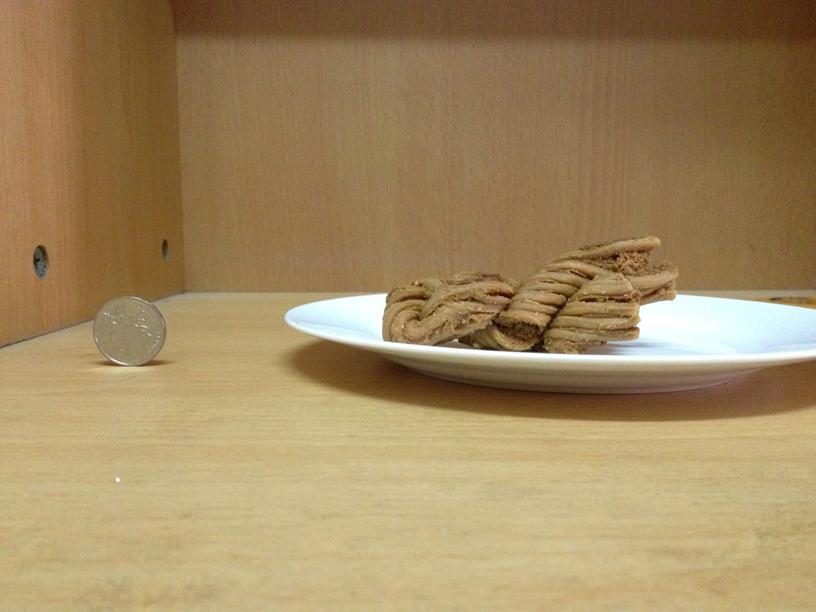coin: (92, 293, 165, 364)
fired_dough_twist: (371, 236, 676, 354)
